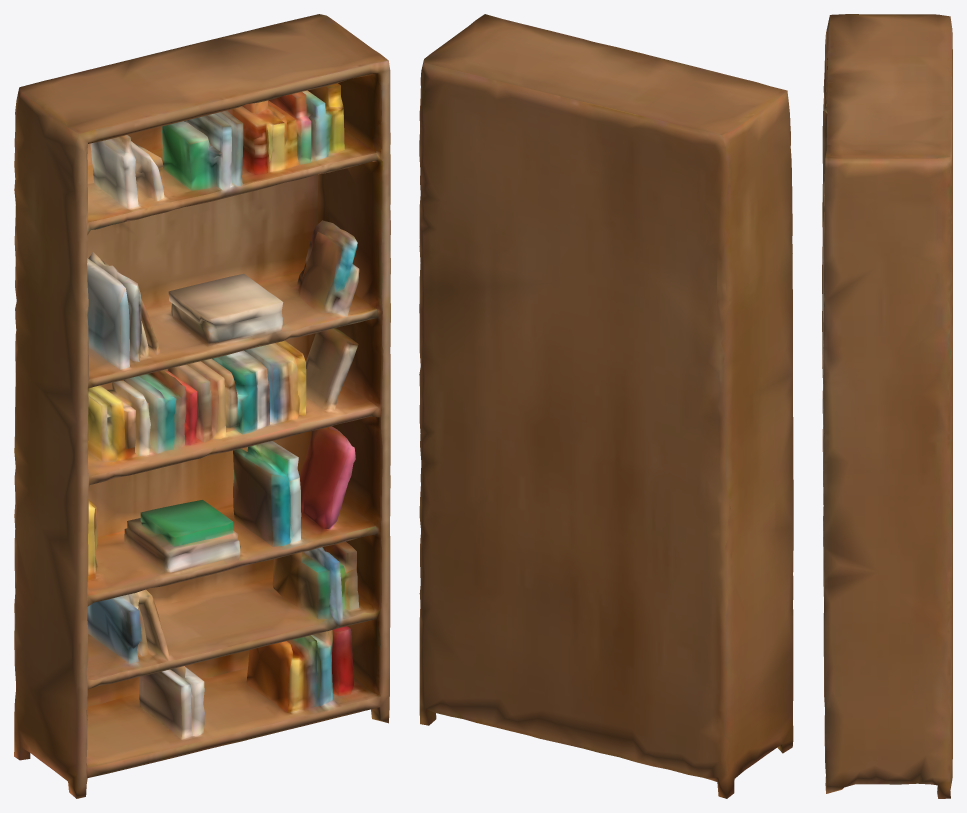
File: 07_bookshelf.glb
The picture shows the model from 3 angles, left to right: view 1: azimuth 30°, elevation 25°; view 2: azimuth 150°, elevation 25°; view 3: azimuth 270°, elevation 25°; orthographic projection. The views are drawn at different scales.
Parts seen in each view (by area): view 1: geometry_0; view 2: geometry_0; view 3: geometry_0.
Boxes of the visible parts, x1=… form: geometry_0: x1=14, y1=14, x2=390, y2=798; geometry_0: x1=419, y1=14, x2=793, y2=798; geometry_0: x1=822, y1=14, x2=952, y2=798.
Bounding box in the file's own units: 0.9263 × 1.89 × 0.3495.
1 material, 1 textured.
